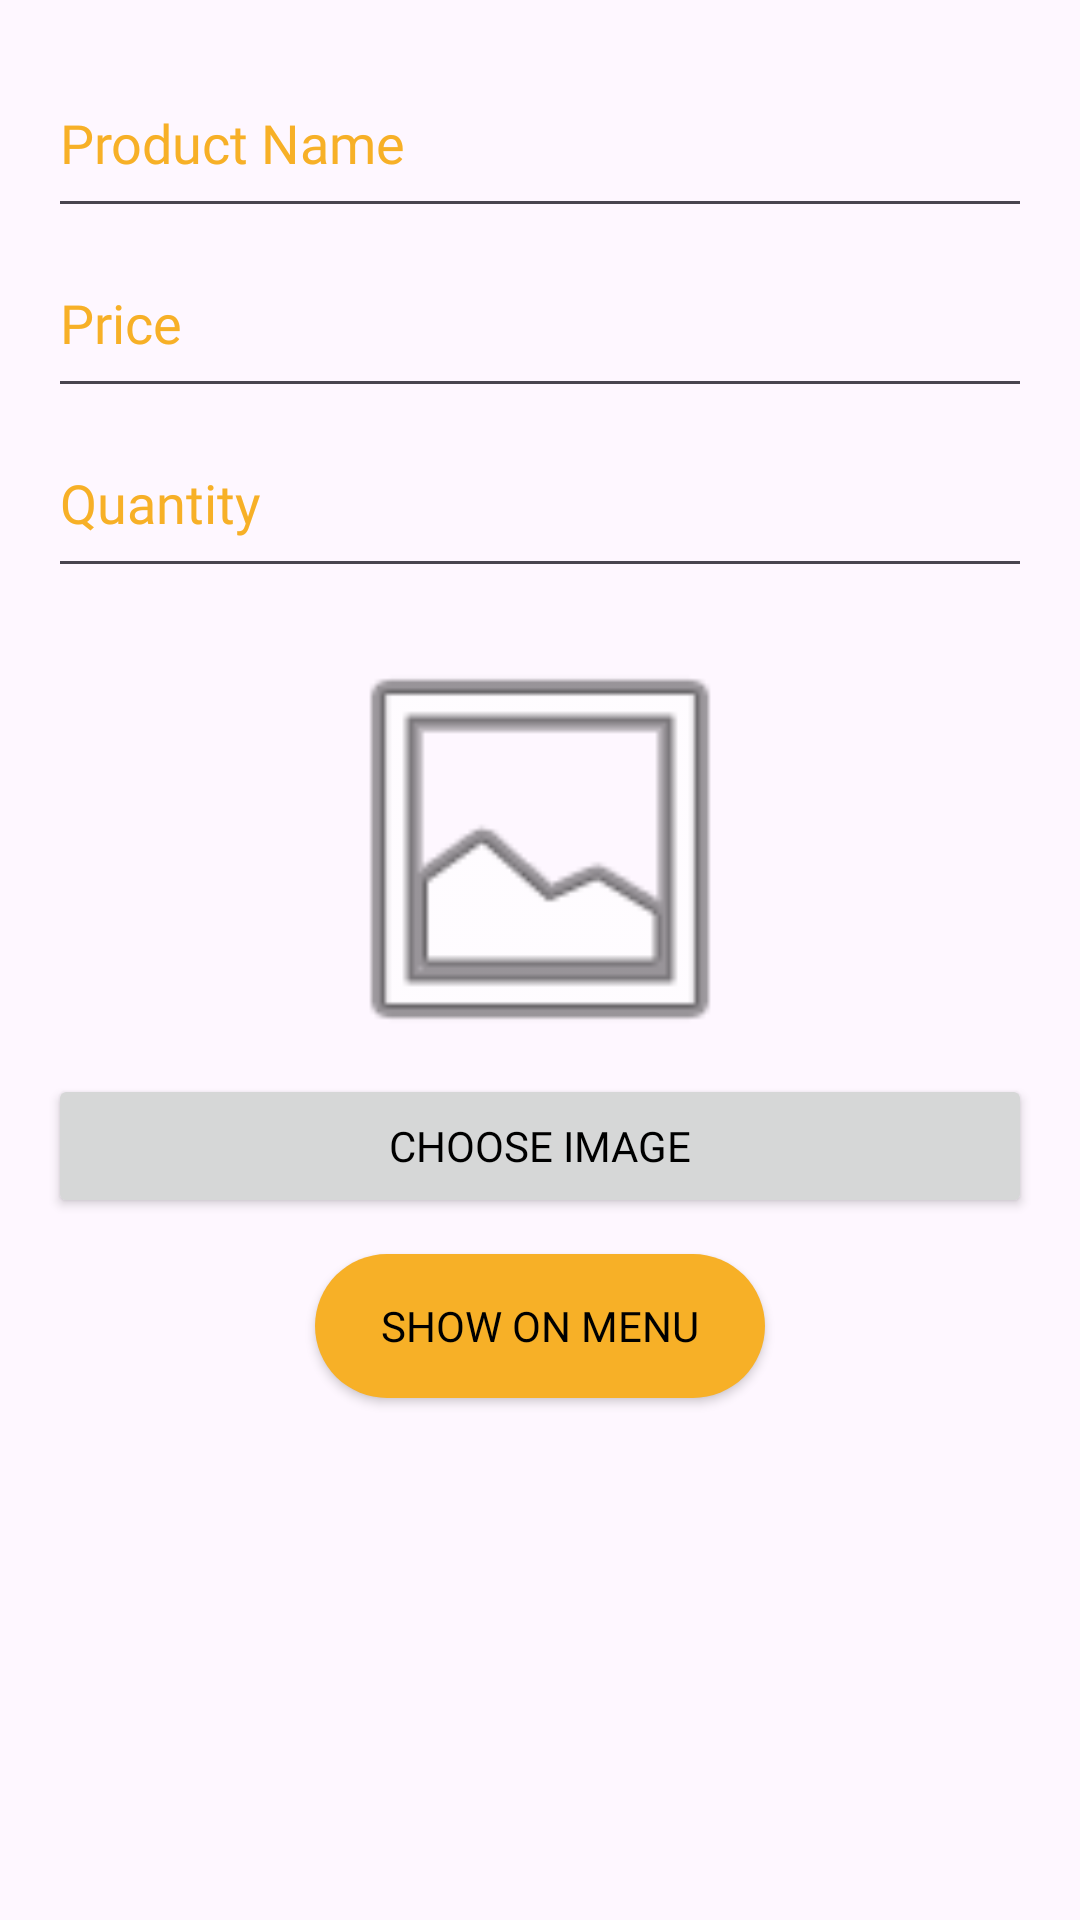

Locate icon controls on the screen. Image size 1080px×1920px, boxes as (x1, y1, x2, y2).
Image Preview: (370, 679, 710, 1019)
